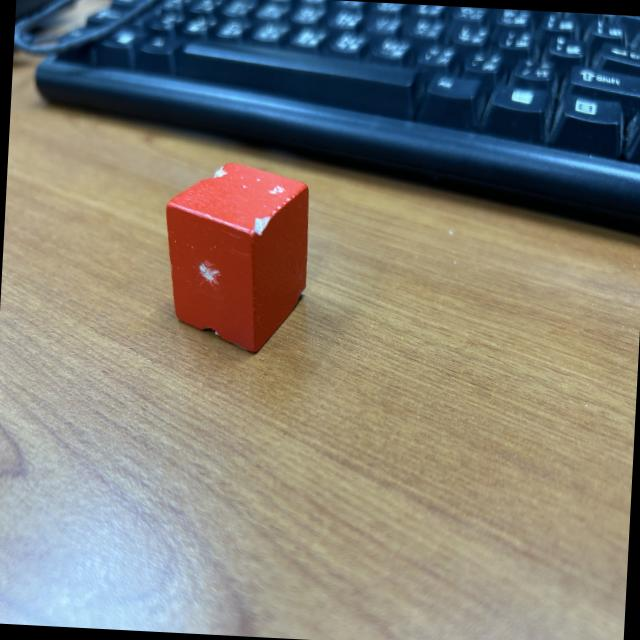broken: (159, 159, 312, 358)
